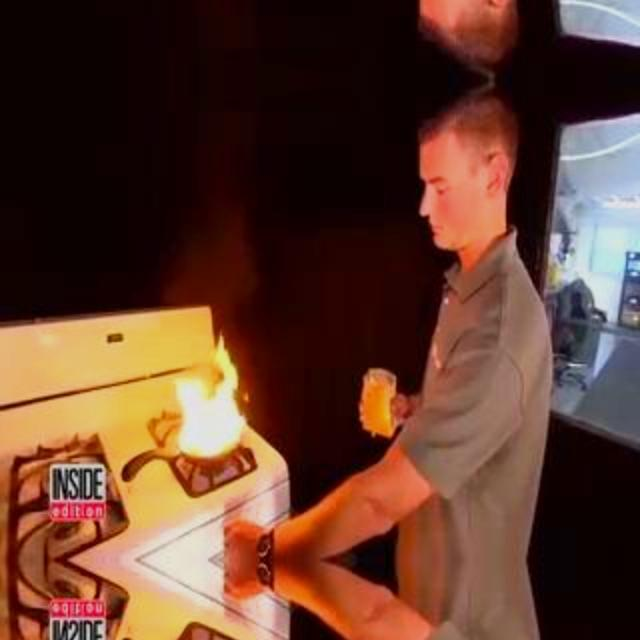smoke: (171, 376, 249, 462)
